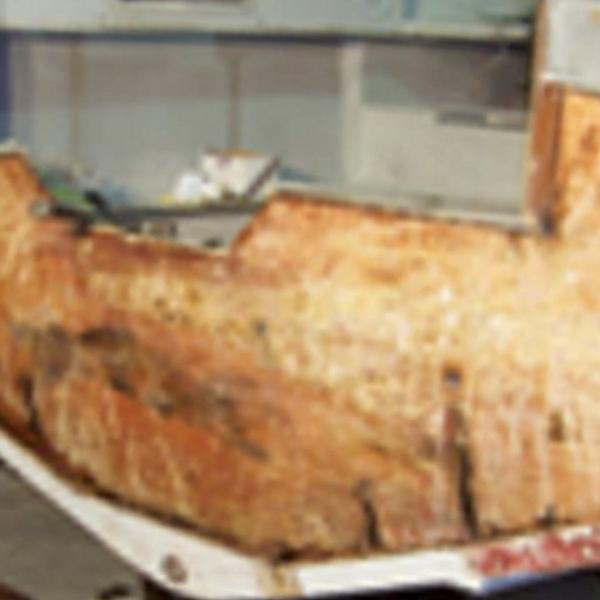rust: (1, 81, 599, 595)
